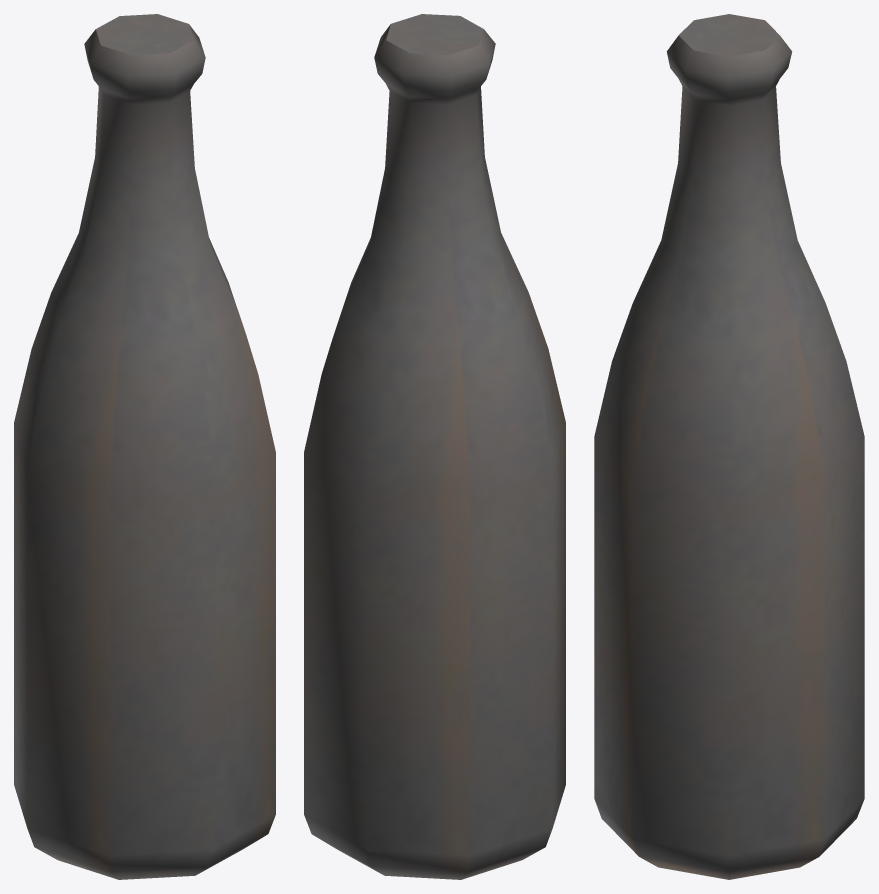
File: GlassBottle.fbx
3 views of the same model, side by side, from view 1: azimuth 30°, elevation 25°; view 2: azimuth 150°, elevation 25°; view 3: azimuth 270°, elevation 25° (orthographic).
Visible parts, largest first — view 1: GlassBottle1; view 2: GlassBottle1; view 3: GlassBottle1.
Part boxes in pixels (bbox=[...]): GlassBottle1: bbox=[14, 14, 275, 879]; GlassBottle1: bbox=[304, 14, 565, 879]; GlassBottle1: bbox=[594, 14, 864, 879].
Size of the model in its own units: 54.9 by 180 by 54.9.
